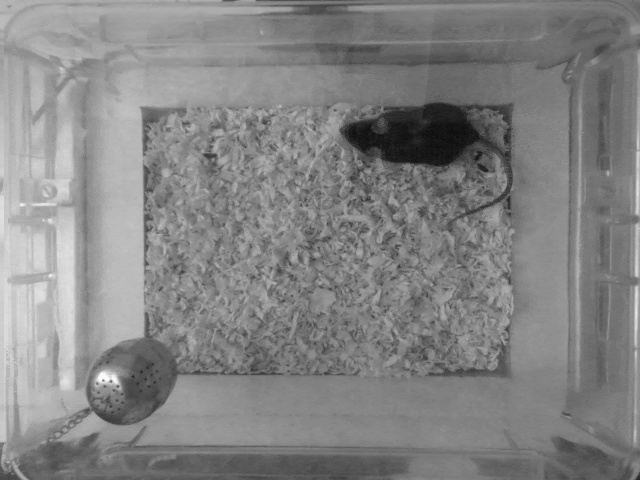mice: (339, 100, 520, 220)
